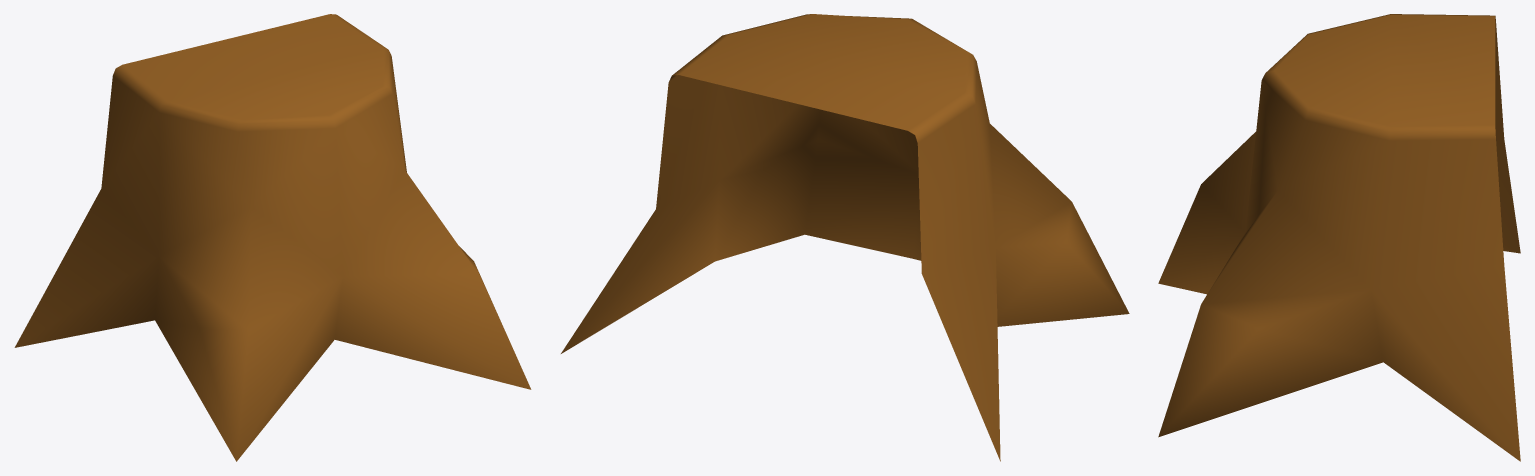
File: Tocon.fbx
3 renders of one model, left to right at view 1: azimuth 30°, elevation 25°; view 2: azimuth 150°, elevation 25°; view 3: azimuth 270°, elevation 25°, orthographic. The views are drawn at different scales.
Parts seen in each view (by area): view 1: roto; view 2: roto; view 3: roto.
Part boxes in pixels (<box>): roto: <box>14,14,531,461</box>; roto: <box>561,14,1129,461</box>; roto: <box>1158,14,1520,461</box>.
Size of the model in its own units: 46.68 by 30.25 by 34.31.
